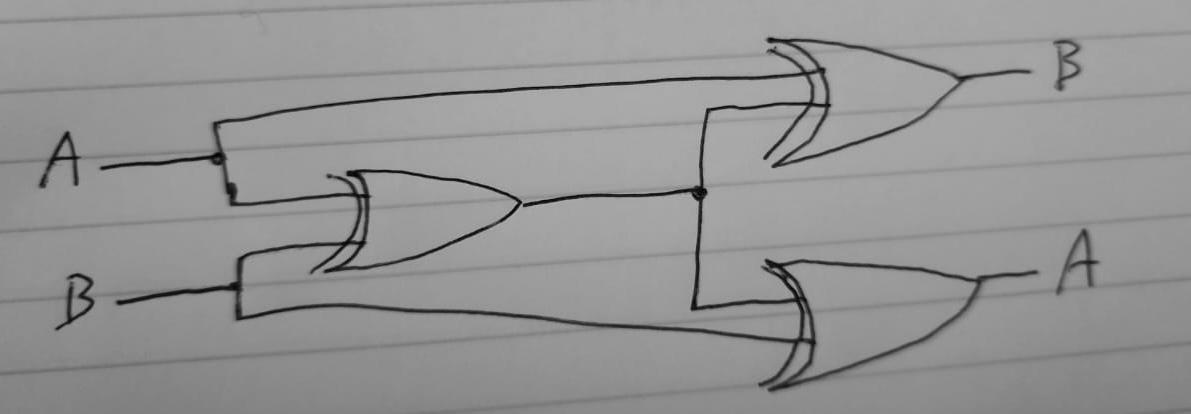XOR: (746, 235, 1006, 398), (748, 17, 986, 171), (307, 150, 542, 279)
